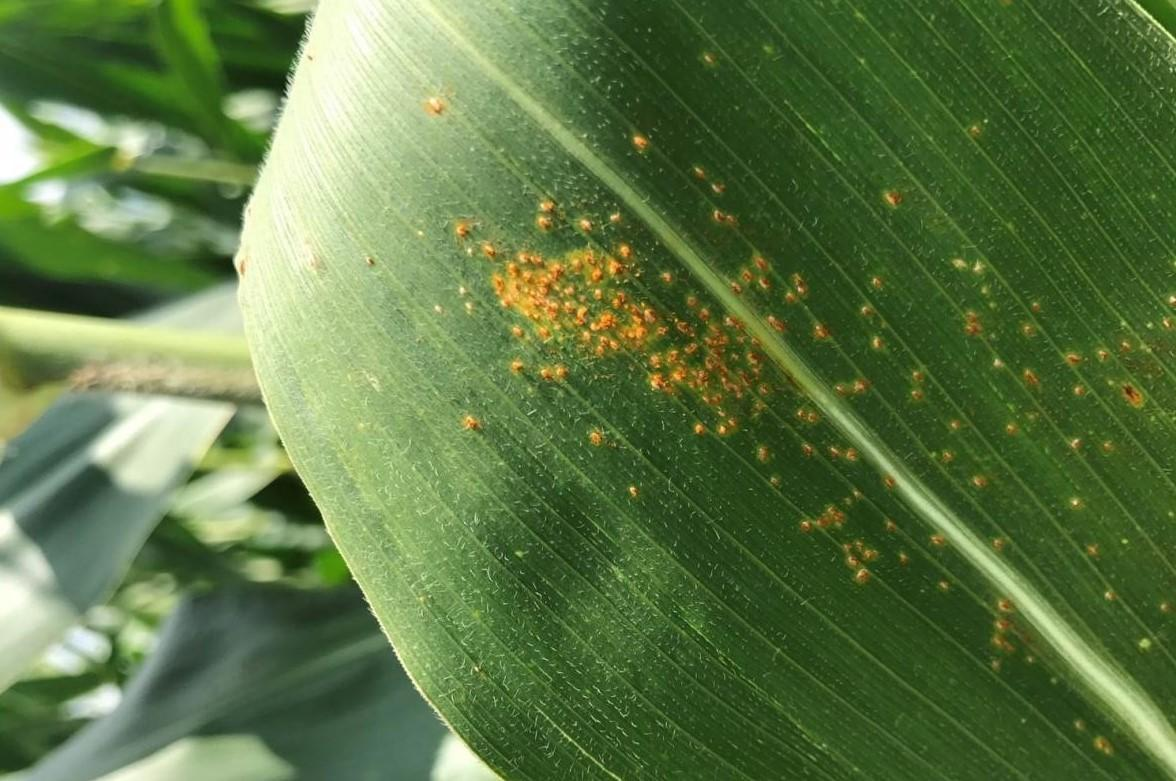Corn_Common_Rust: (789, 186, 1176, 781), (396, 189, 793, 484), (543, 49, 772, 228), (175, 165, 373, 351), (352, 25, 468, 145), (931, 72, 1006, 188)
